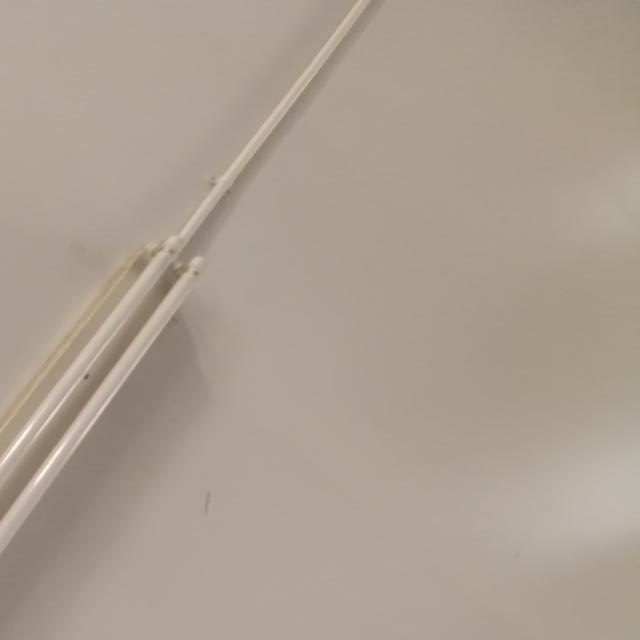fluorescent tube: (0, 219, 265, 640)
